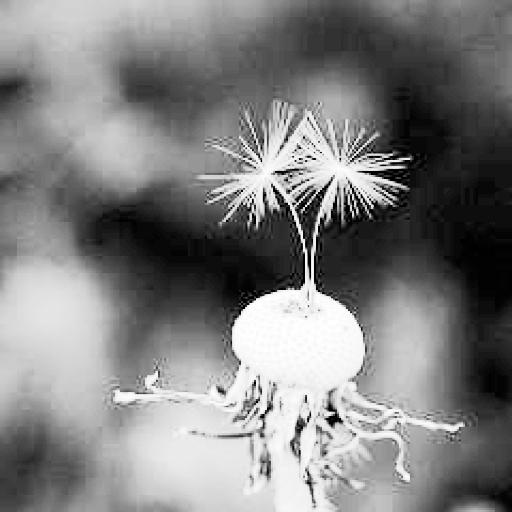dandelion: (299, 104, 416, 234), (209, 106, 314, 216)
